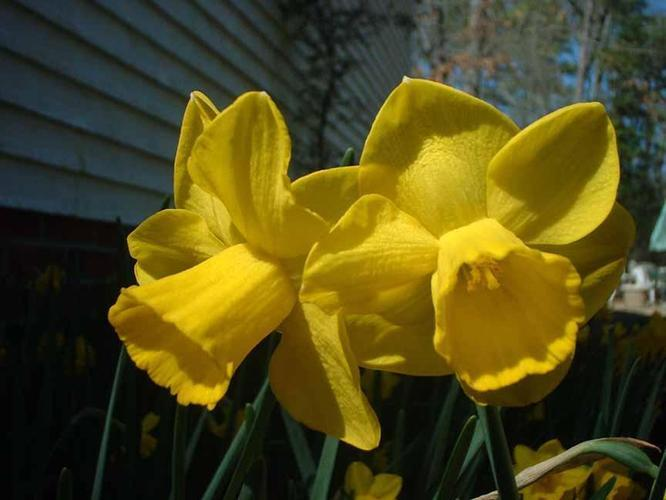flower1: (105, 72, 640, 452)
